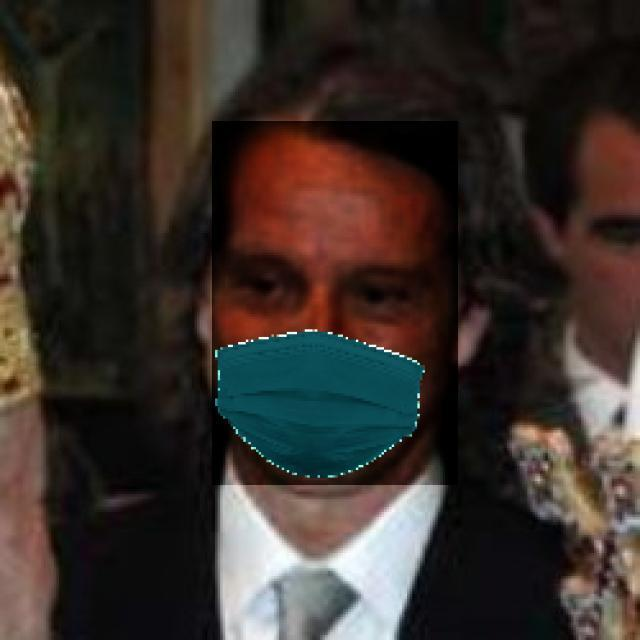surgical: (213, 122, 459, 486)
